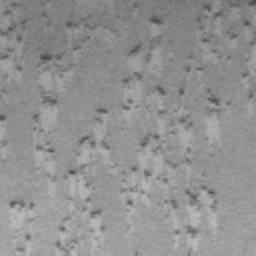Oxide scale of temperature system: (54, 54, 219, 255), (31, 20, 122, 197), (120, 15, 165, 124), (195, 0, 236, 64), (0, 3, 29, 83), (5, 200, 35, 255), (202, 87, 223, 145), (241, 20, 256, 77), (225, 31, 239, 44), (0, 114, 5, 138)
